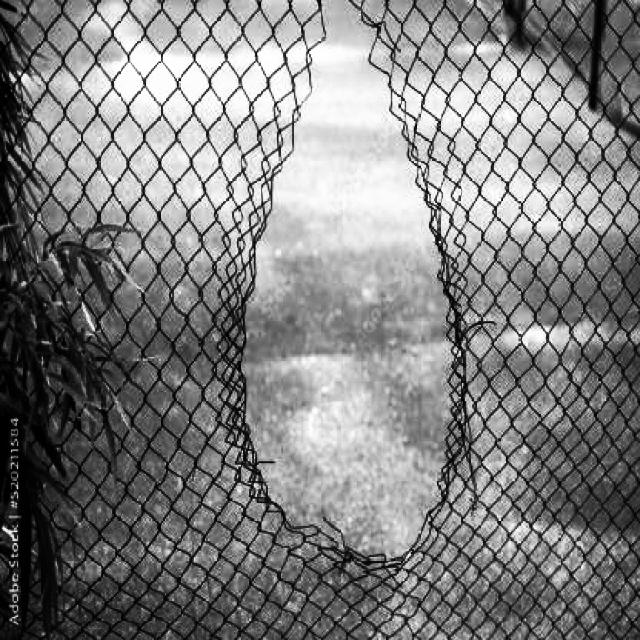anomaly-fence: (211, 1, 499, 569)
